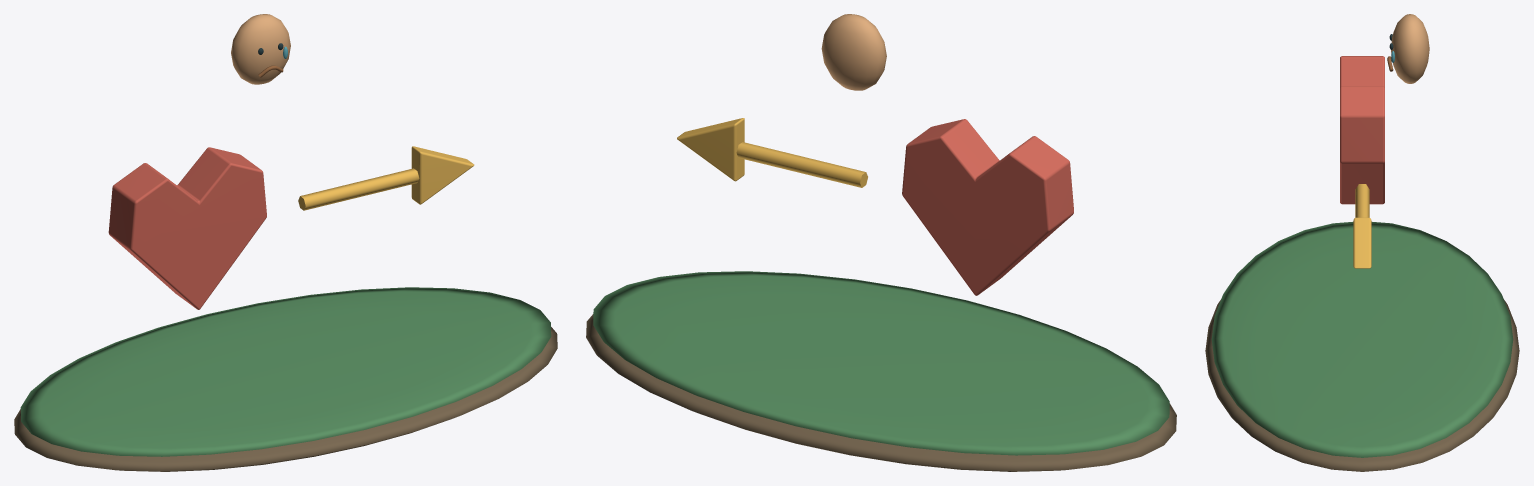
File: complete-third-felt-motion.glb
3 views of the same model, side by side, from view 1: azimuth 30°, elevation 25°; view 2: azimuth 150°, elevation 25°; view 3: azimuth 270°, elevation 25° (orthographic). The views are drawn at different scales.
Visible parts, largest first — view 1: complete-third-felt-motion_surface_01, complete-third-felt-motion_surface_02, complete-third-felt-motion_surface_00, complete-third-felt-motion_surface_03, complete-third-felt-motion_surface_04; view 2: complete-third-felt-motion_surface_01, complete-third-felt-motion_surface_02, complete-third-felt-motion_surface_00, complete-third-felt-motion_surface_03, complete-third-felt-motion_surface_04; view 3: complete-third-felt-motion_surface_01, complete-third-felt-motion_surface_02, complete-third-felt-motion_surface_00, complete-third-felt-motion_surface_04, complete-third-felt-motion_surface_03.
Boxes of the visible parts, x1,y1,x2,y2 form: complete-third-felt-motion_surface_01: (20,287,551,456); complete-third-felt-motion_surface_02: (108,147,266,309); complete-third-felt-motion_surface_00: (14,327,557,471); complete-third-felt-motion_surface_03: (298,146,474,210); complete-third-felt-motion_surface_04: (231,14,290,84); complete-third-felt-motion_surface_01: (593,271,1169,455); complete-third-felt-motion_surface_02: (902,119,1073,295); complete-third-felt-motion_surface_00: (586,314,1176,471); complete-third-felt-motion_surface_03: (677,118,867,187); complete-third-felt-motion_surface_04: (821,14,886,90); complete-third-felt-motion_surface_01: (1211,222,1513,457); complete-third-felt-motion_surface_02: (1340,56,1384,204); complete-third-felt-motion_surface_00: (1205,300,1519,471); complete-third-felt-motion_surface_04: (1391,14,1429,83); complete-third-felt-motion_surface_03: (1353,184,1371,268).
Size of the model in its own units: 4.56 by 3.07 by 2.5.
